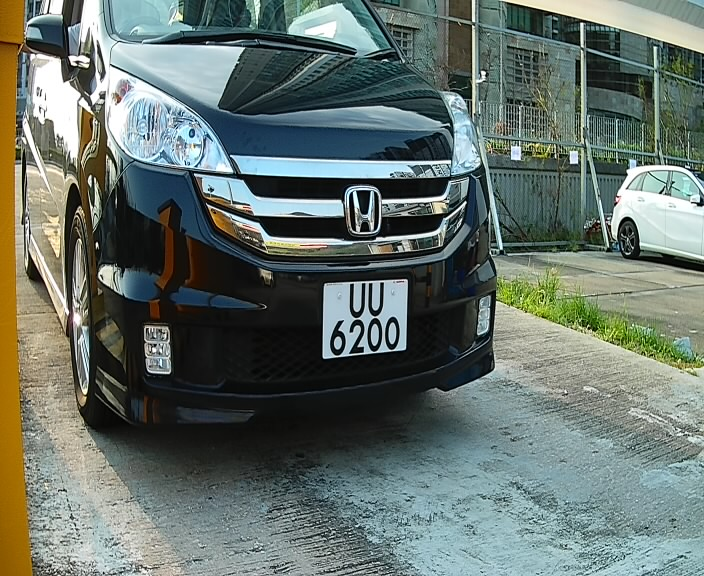Car: (25, 2, 503, 457)
License Plate: (315, 275, 414, 366)
